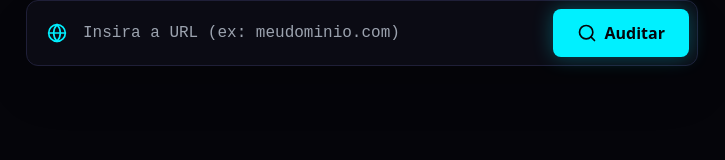
Test: UrlInputForm Component › should show error when submitting empty url
What coordinates should you click on to do the following:
click the button "Auditar"
I would click on:
 (621, 33)
Its box is [553,9,689,57].
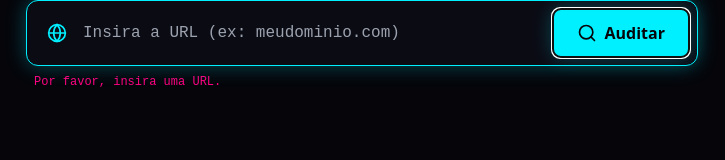
Check: the text "Por favor, insira uma URL." is shown, box [34,75,221,89]
